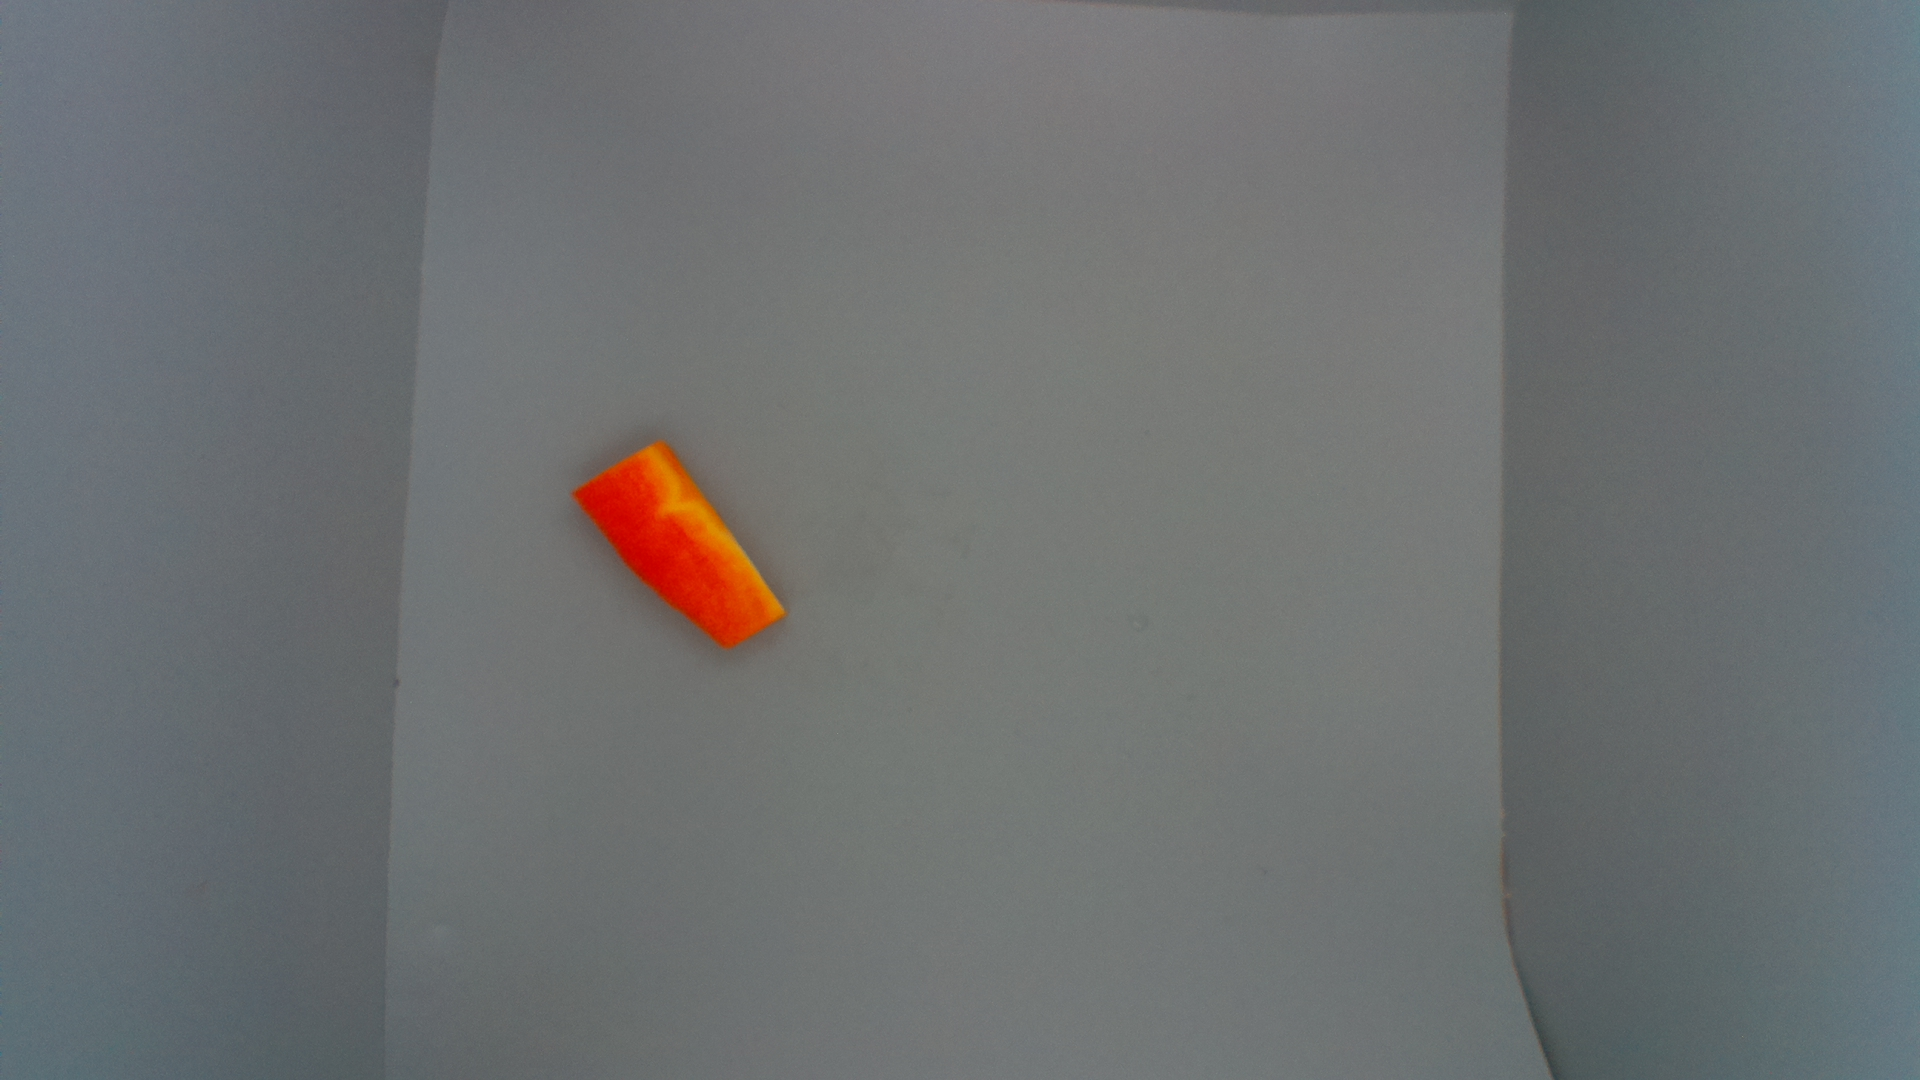carrot: (568, 436, 785, 653)
